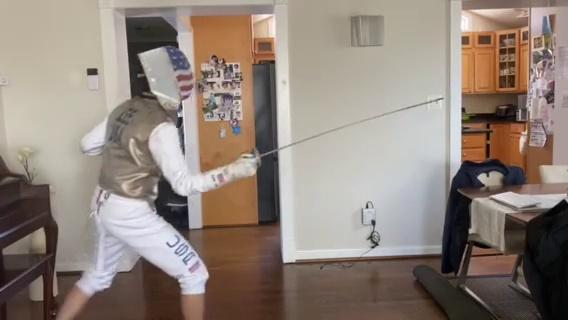blade-guard: (250, 147, 268, 167)
blade-tip: (399, 97, 447, 110)
fencing-blade: (241, 96, 451, 171)
